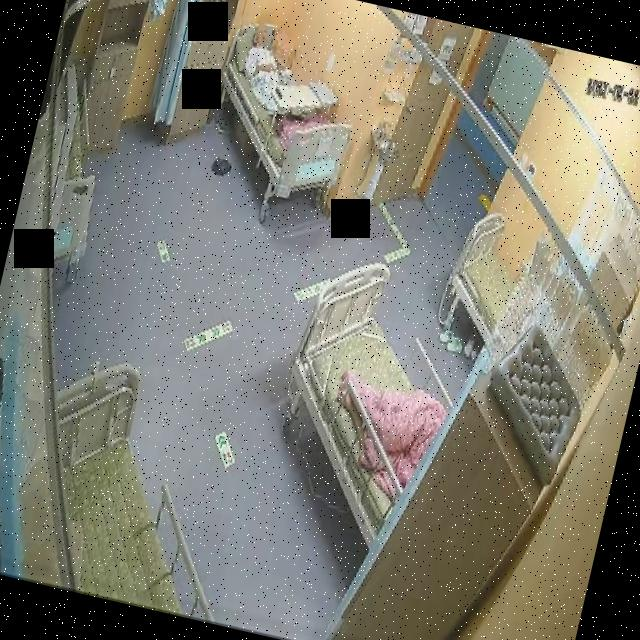bed: (12, 352, 264, 624), (255, 251, 470, 554), (192, 14, 372, 210), (438, 206, 530, 348)
lie: (233, 20, 294, 111)
patient: (233, 22, 292, 112)
